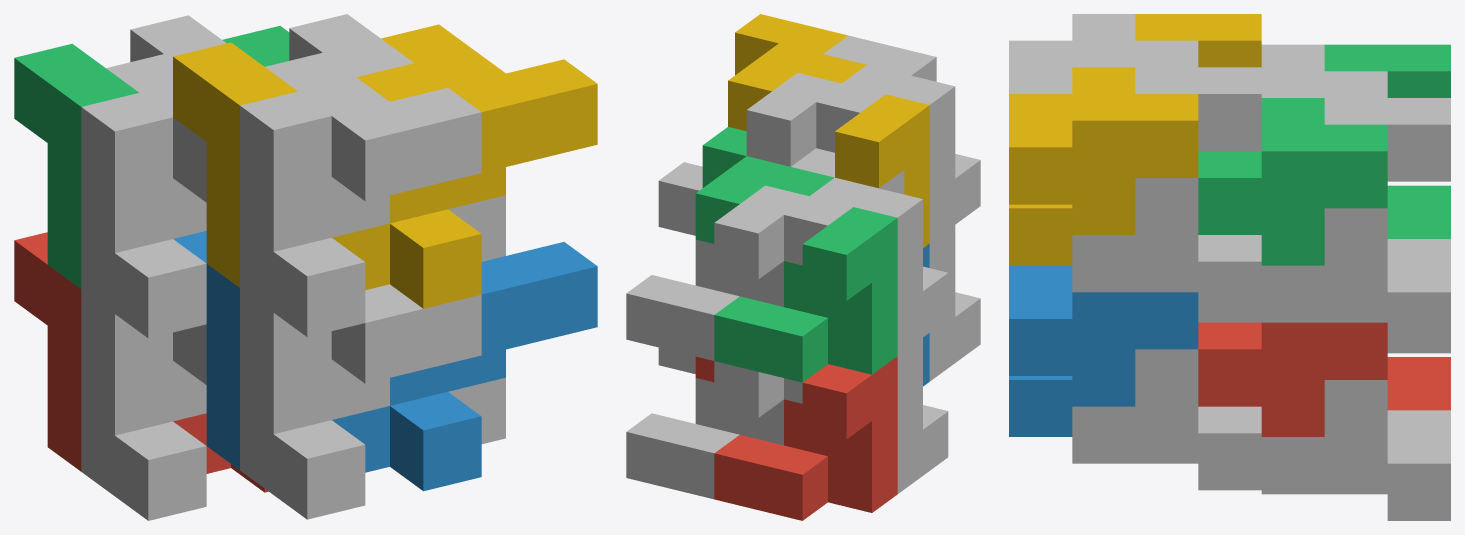
The model's file is tiling.obj.
3 renders of one model, left to right at view 1: azimuth 30°, elevation 25°; view 2: azimuth 150°, elevation 25°; view 3: azimuth 270°, elevation 25°, orthographic. The views are drawn at different scales.
Parts seen in each view (by area): view 1: copy_2_domain_4, copy_2_domain_2, copy_2_domain_3, copy_2_domain_8, copy_2_domain_1, copy_2_domain_6, copy_1_domain_4, copy_1_domain_3, copy_1_domain_1, copy_1_domain_2, copy_1_domain_8, copy_1_domain_7 (+2 smaller); view 2: copy_1_domain_3, copy_1_domain_1, copy_1_domain_7, copy_2_domain_4, copy_1_domain_5, copy_2_domain_3, copy_1_domain_8, copy_1_domain_4, copy_2_domain_8, copy_2_domain_7, copy_2_domain_1, copy_2_domain_2 (+3 smaller); view 3: copy_2_domain_8, copy_1_domain_7, copy_1_domain_8, copy_2_domain_6, copy_2_domain_7, copy_1_domain_5, copy_1_domain_6, copy_2_domain_5, copy_1_domain_3, copy_2_domain_4, copy_1_domain_4, copy_2_domain_3 (+1 smaller).
Boxes of the visible parts, <box> form: copy_2_domain_4: <box>240,52,481,336</box>; copy_2_domain_2: <box>240,284,481,519</box>; copy_2_domain_3: <box>81,54,206,338</box>; copy_2_domain_8: <box>357,24,597,308</box>; copy_2_domain_1: <box>81,289,206,520</box>; copy_2_domain_6: <box>390,242,597,491</box>; copy_1_domain_4: <box>173,42,389,290</box>; copy_1_domain_3: <box>14,43,138,288</box>; copy_1_domain_1: <box>14,232,230,473</box>; copy_1_domain_2: <box>173,231,389,472</box>; copy_1_domain_8: <box>289,14,505,261</box>; copy_1_domain_7: <box>130,15,226,61</box>; copy_1_domain_3: <box>714,207,897,382</box>; copy_1_domain_1: <box>714,356,897,520</box>; copy_1_domain_7: <box>626,185,808,360</box>; copy_2_domain_4: <box>816,35,980,242</box>; copy_1_domain_5: <box>626,361,783,499</box>; copy_2_domain_3: <box>784,148,948,355</box>; copy_1_domain_8: <box>658,72,841,235</box>; copy_1_domain_4: <box>835,94,929,247</box>; copy_2_domain_8: <box>728,14,866,130</box>; copy_2_domain_7: <box>695,127,834,243</box>; copy_2_domain_1: <box>784,338,948,493</box>; copy_2_domain_2: <box>929,225,980,381</box>; copy_2_domain_8: <box>1009,67,1198,265</box>; copy_1_domain_7: <box>1261,98,1450,349</box>; copy_1_domain_8: <box>1072,67,1261,318</box>; copy_2_domain_6: <box>1009,265,1198,436</box>; copy_2_domain_7: <box>1198,98,1387,265</box>; copy_1_domain_5: <box>1261,349,1450,520</box>; copy_1_domain_6: <box>1072,319,1261,490</box>; copy_2_domain_5: <box>1198,322,1387,436</box>; copy_1_domain_3: <box>1324,44,1450,238</box>; copy_2_domain_4: <box>1009,14,1198,93</box>; copy_1_domain_4: <box>1135,14,1261,67</box>; copy_2_domain_3: <box>1261,44,1387,97</box>.
Bounding box in the file's own units: 6 × 7 × 7.
